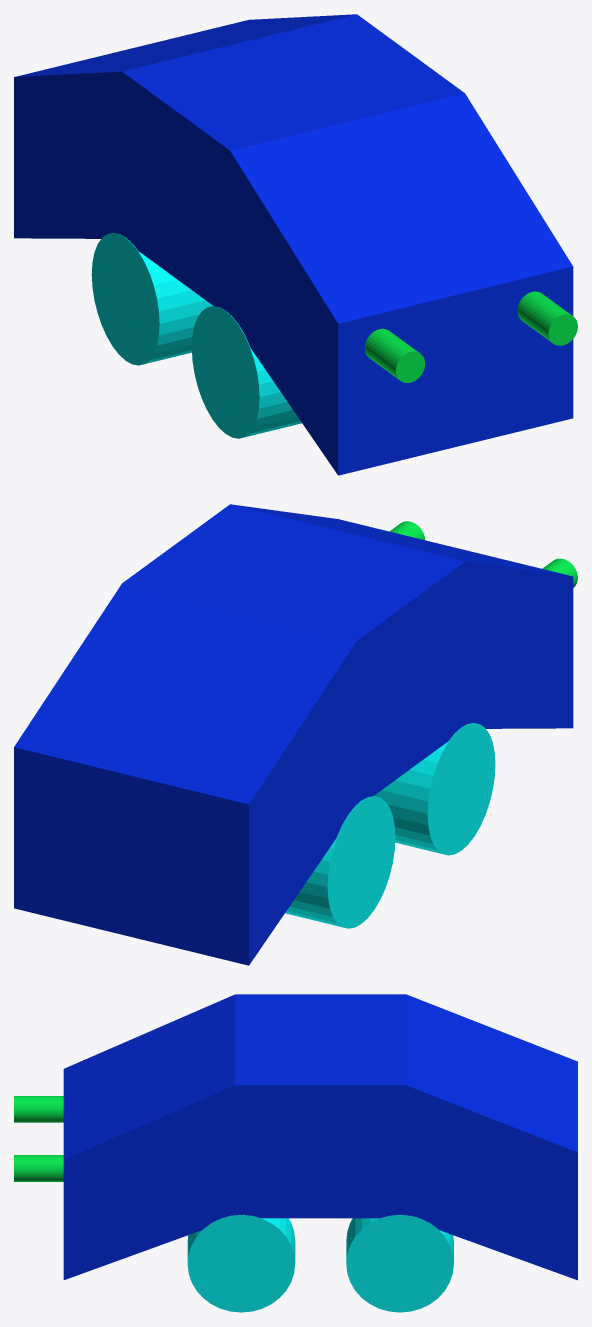
The model's file is MiniCarProject1c 1.fbx.
3 views of the same model, one above another, from view 1: azimuth 30°, elevation 25°; view 2: azimuth 150°, elevation 25°; view 3: azimuth 270°, elevation 25° (orthographic). The views are drawn at different scales.
Visible parts, largest first — view 1: Cube, Cylinder, Cylinder.001; view 2: Cube, Cylinder, Cylinder.001; view 3: Cube, Cylinder, Cylinder.001.
Boxes of the visible parts, x1,y1,x2,y2 form: Cube: [14, 14, 573, 475]; Cylinder: [91, 233, 301, 438]; Cylinder.001: [364, 291, 577, 382]; Cube: [14, 504, 573, 965]; Cylinder: [285, 723, 495, 928]; Cylinder.001: [389, 521, 577, 587]; Cube: [63, 994, 577, 1280]; Cylinder: [187, 1215, 453, 1312]; Cylinder.001: [14, 1096, 63, 1181].
Size of the model in its own units: 201 by 233 by 524.
